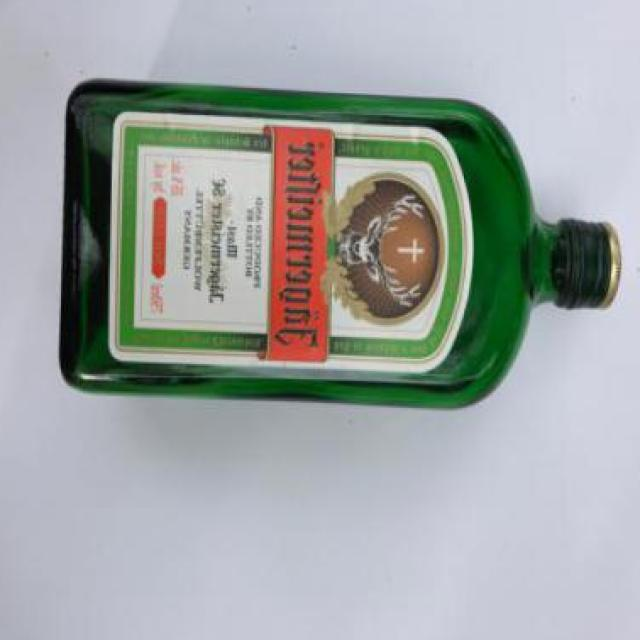kaca: (61, 78, 615, 408)
